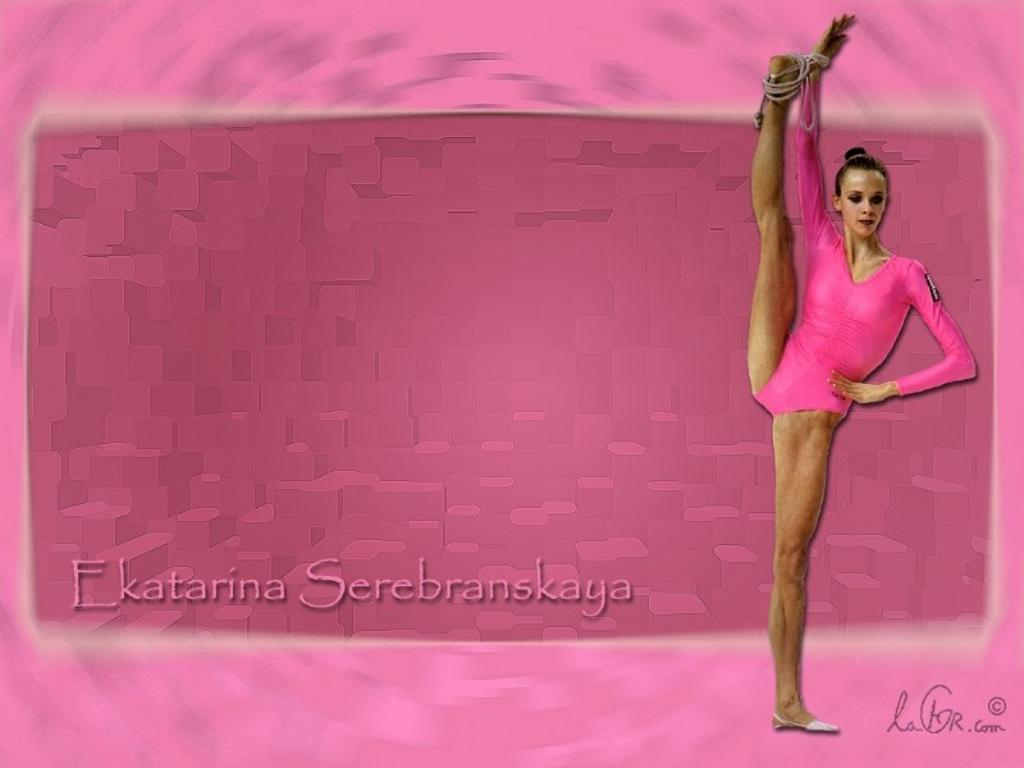face: (840, 177, 886, 235)
